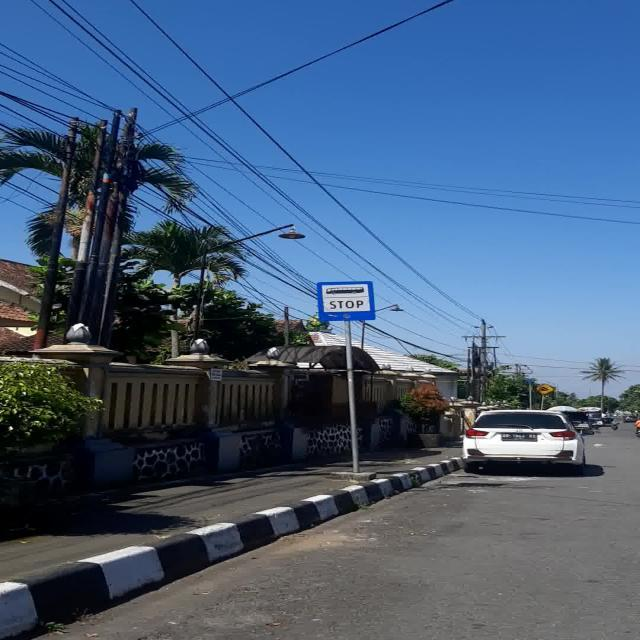Pemberhentian Bus: (316, 281, 376, 321)
